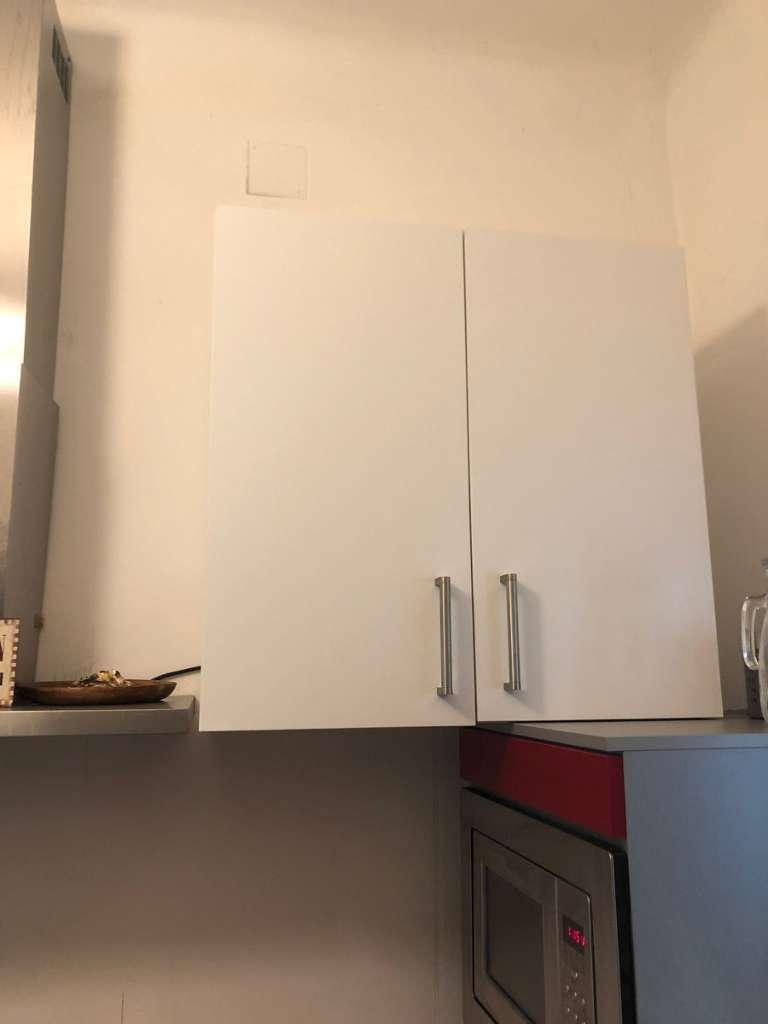cabinet_door: (214, 220, 467, 719), (471, 248, 697, 724)
handle: (497, 567, 525, 703), (430, 567, 456, 705)
